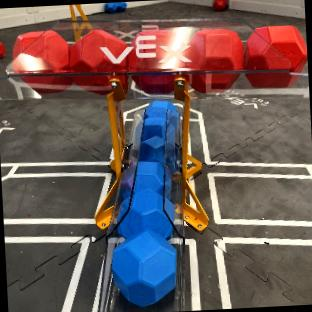V5_BLUE: (112, 230, 176, 305), (117, 187, 174, 235), (138, 100, 178, 166)
V5_RED: (183, 27, 242, 91), (246, 25, 306, 86), (68, 29, 127, 70), (12, 29, 68, 71), (191, 71, 237, 91), (247, 71, 296, 86)
